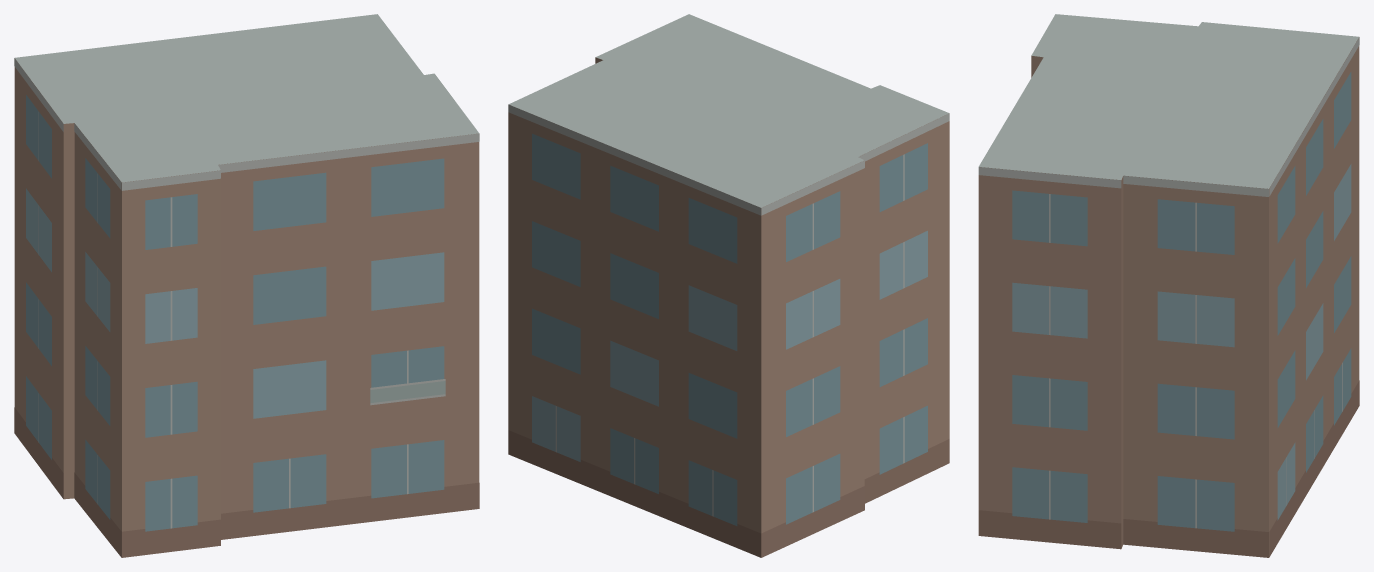
File: survey-upis-32990756.glb
The picture shows the model from 3 angles, left to right: view 1: azimuth 30°, elevation 25°; view 2: azimuth 150°, elevation 25°; view 3: azimuth 270°, elevation 25°; orthographic projection. The views are drawn at different scales.
Visible parts, largest first — view 1: survey-upis-32990756.tmp; view 2: survey-upis-32990756.tmp; view 3: survey-upis-32990756.tmp.
Boxes of the visible parts, <box> form: survey-upis-32990756.tmp: <box>14,14,479,557</box>; survey-upis-32990756.tmp: <box>508,14,949,557</box>; survey-upis-32990756.tmp: <box>978,14,1359,557</box>.
Bounding box in the file's own units: 11.09 × 10.9 × 10.21.
